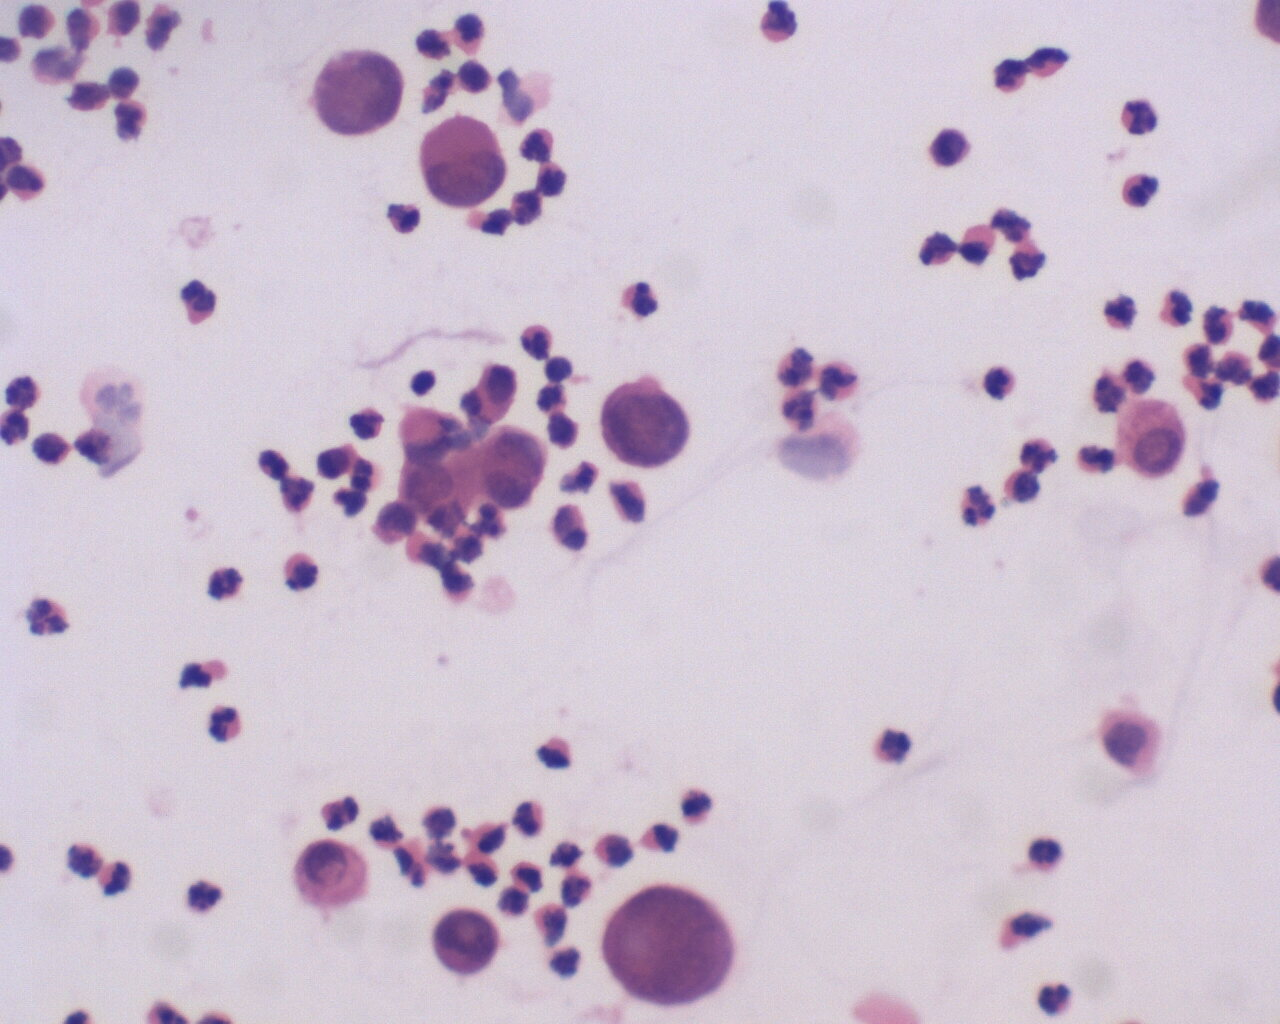ab: (600, 885, 739, 1014), (597, 374, 693, 473), (416, 111, 510, 208), (315, 46, 405, 145), (428, 903, 503, 982)
meso: (1116, 393, 1190, 481)
neutro: (273, 546, 324, 592), (956, 480, 997, 535), (977, 359, 1024, 406), (1021, 830, 1066, 878), (1117, 91, 1161, 140), (318, 786, 360, 834), (870, 723, 913, 770), (202, 561, 250, 603), (1156, 288, 1197, 335), (204, 698, 245, 744), (1034, 975, 1076, 1019), (179, 279, 216, 327), (94, 858, 137, 900), (511, 795, 553, 837), (620, 277, 659, 321), (534, 731, 573, 775), (516, 320, 555, 362), (1121, 168, 1161, 208), (5, 370, 44, 408)
